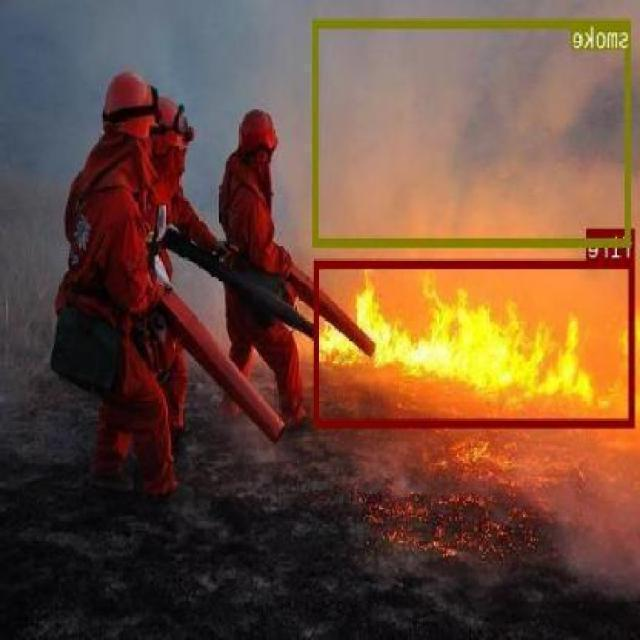Fire: (313, 260, 640, 412)
Smoke: (283, 0, 640, 272), (363, 390, 640, 587), (0, 0, 90, 477)
